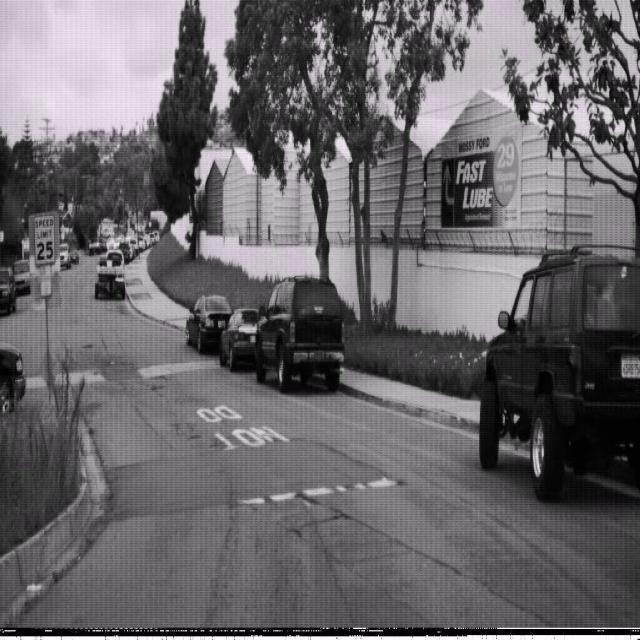speedLimit25: (33, 211, 56, 266)
